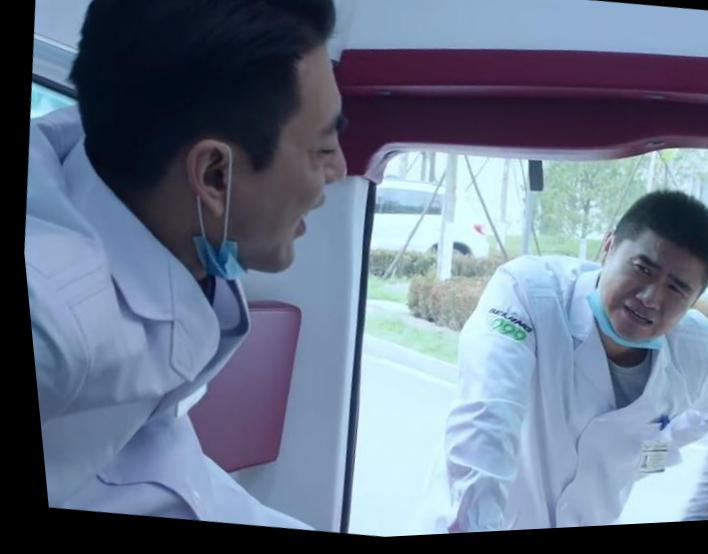WRONG: (202, 60, 373, 298), (584, 246, 700, 361)
